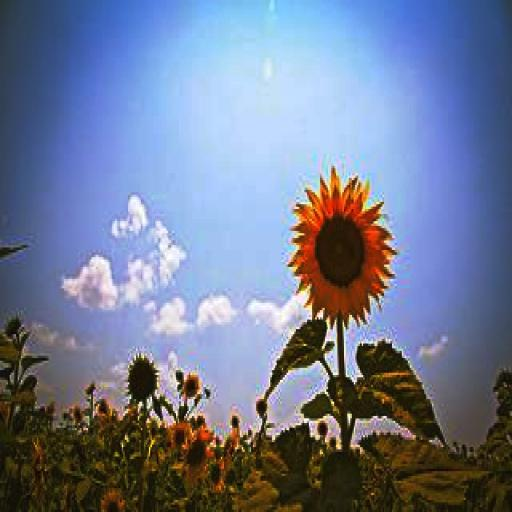sunflower: (290, 168, 396, 327), (126, 356, 158, 404), (208, 457, 227, 495), (100, 485, 123, 512), (173, 418, 190, 454), (182, 373, 200, 399)
